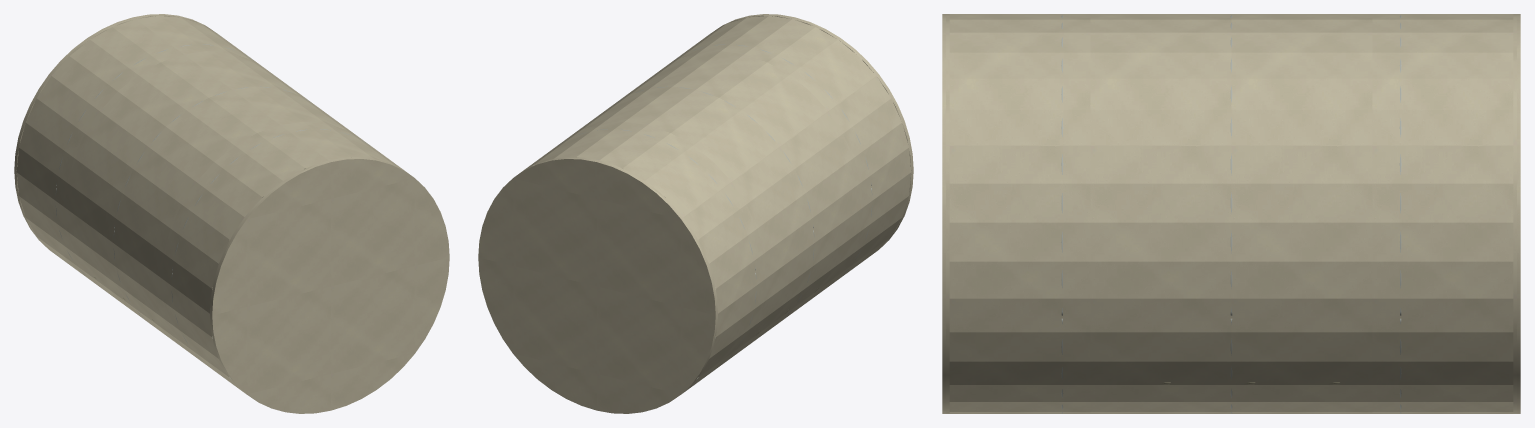
Rendered from beam.glb.
3 views of the same model, side by side, from view 1: azimuth 30°, elevation 25°; view 2: azimuth 150°, elevation 25°; view 3: azimuth 270°, elevation 25° (orthographic). The views are drawn at different scales.
Visible parts, largest first — view 1: beam_detailed; view 2: beam_detailed; view 3: beam_detailed.
Part boxes in pixels (x1=…): beam_detailed: x1=14, y1=14, x2=449, y2=413; beam_detailed: x1=478, y1=14, x2=913, y2=413; beam_detailed: x1=942, y1=14, x2=1520, y2=413.
Size of the model in its own units: 2.84 by 2.84 by 4.1.
Materials: 9 (7 with a texture image).
